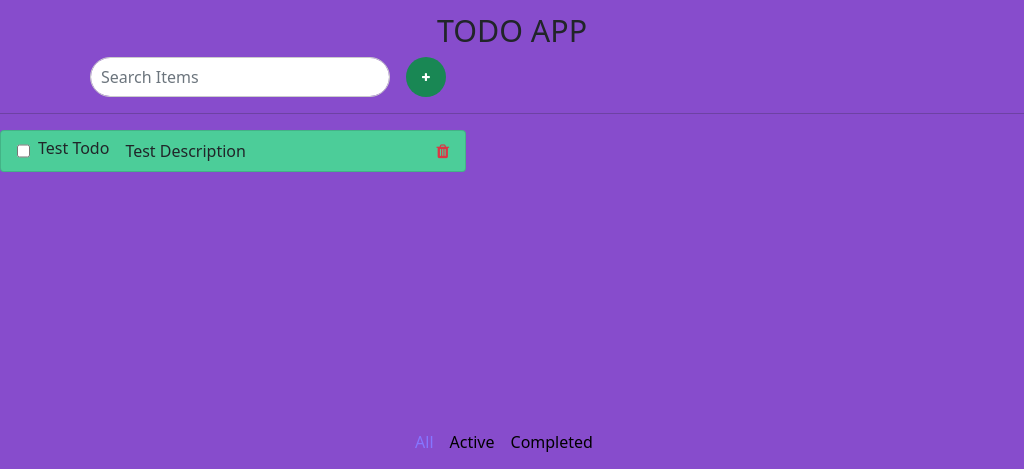
should able to search todo item
This screenshot has width=1024, height=469.
Type "Test" into the field with placeholder "Search Items" at x=240, y=76, box [90,56,390,96]
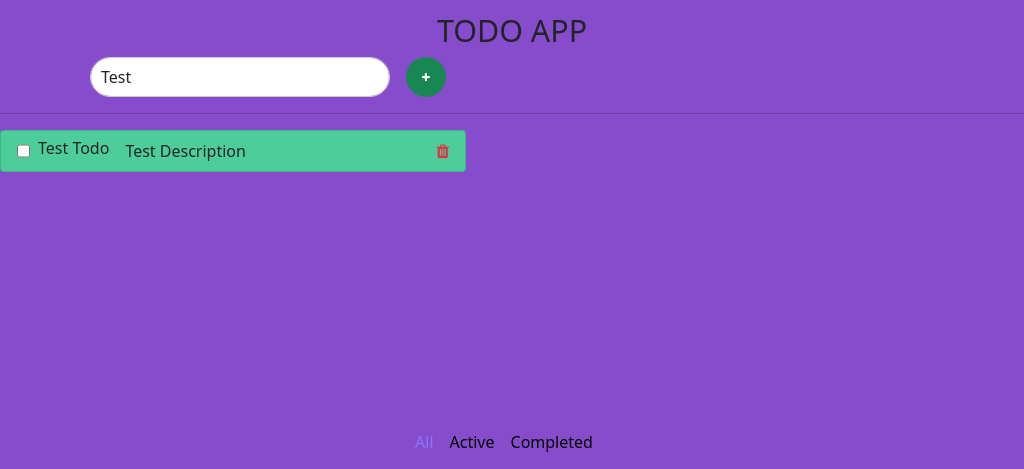
Expected: the heading "Test Todo" is shown, [38,138,109,158]
Replace the text in the field with placeholder "Search Items" with "not exists" at x=240, y=76, box [90,56,390,96]
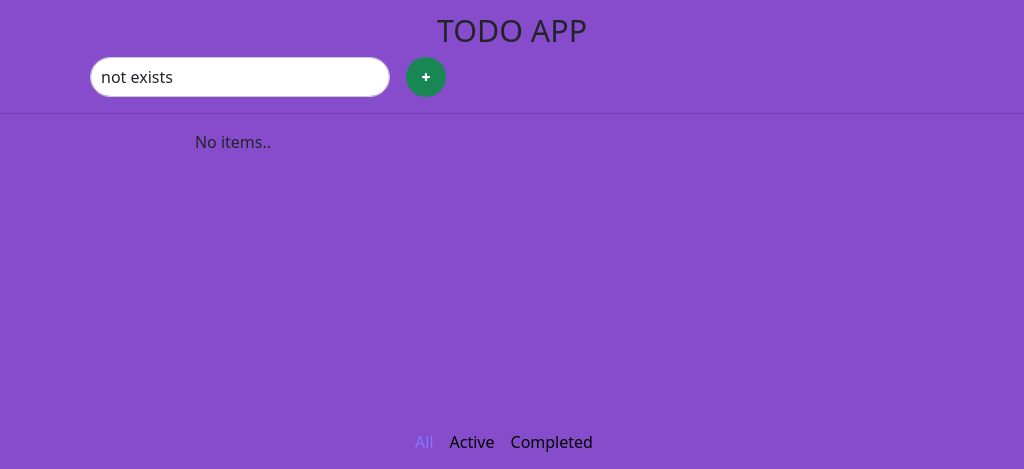
Result: the text "No items.." is shown at [195,130,271,152]
